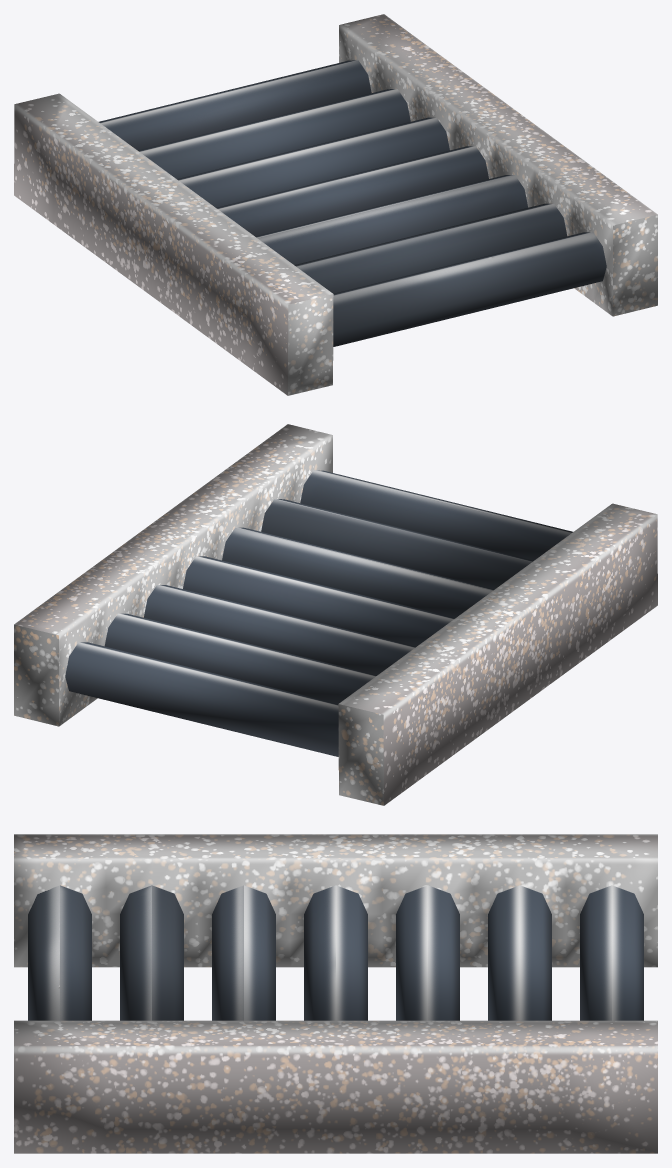
Rendered from CONVERBELT2.fbx.
The picture shows the model from 3 angles, top to bottom: view 1: azimuth 30°, elevation 25°; view 2: azimuth 150°, elevation 25°; view 3: azimuth 270°, elevation 25°; orthographic projection. The views are drawn at different scales.
Parts seen in each view (by area): view 1: Plane.004; view 2: Plane.004; view 3: Plane.004.
Boxes of the visible parts, x1=… form: Plane.004: x1=14, y1=14, x2=657, y2=395; Plane.004: x1=14, y1=424, x2=657, y2=805; Plane.004: x1=14, y1=834, x2=657, y2=1153.
Bounding box in the file's own units: 133 × 31.43 × 171.
